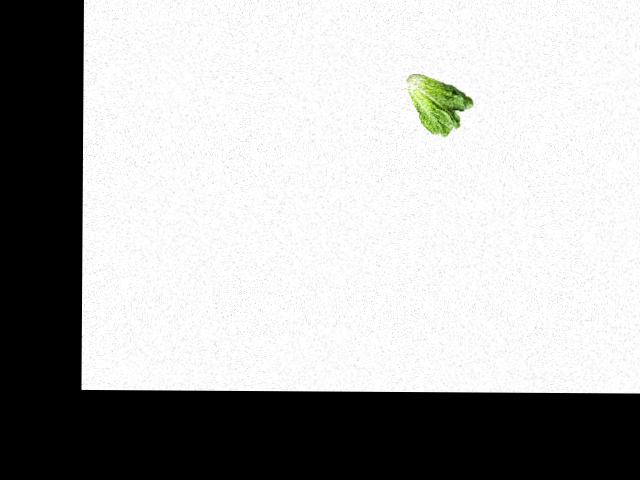lettuce: (404, 72, 473, 145)
